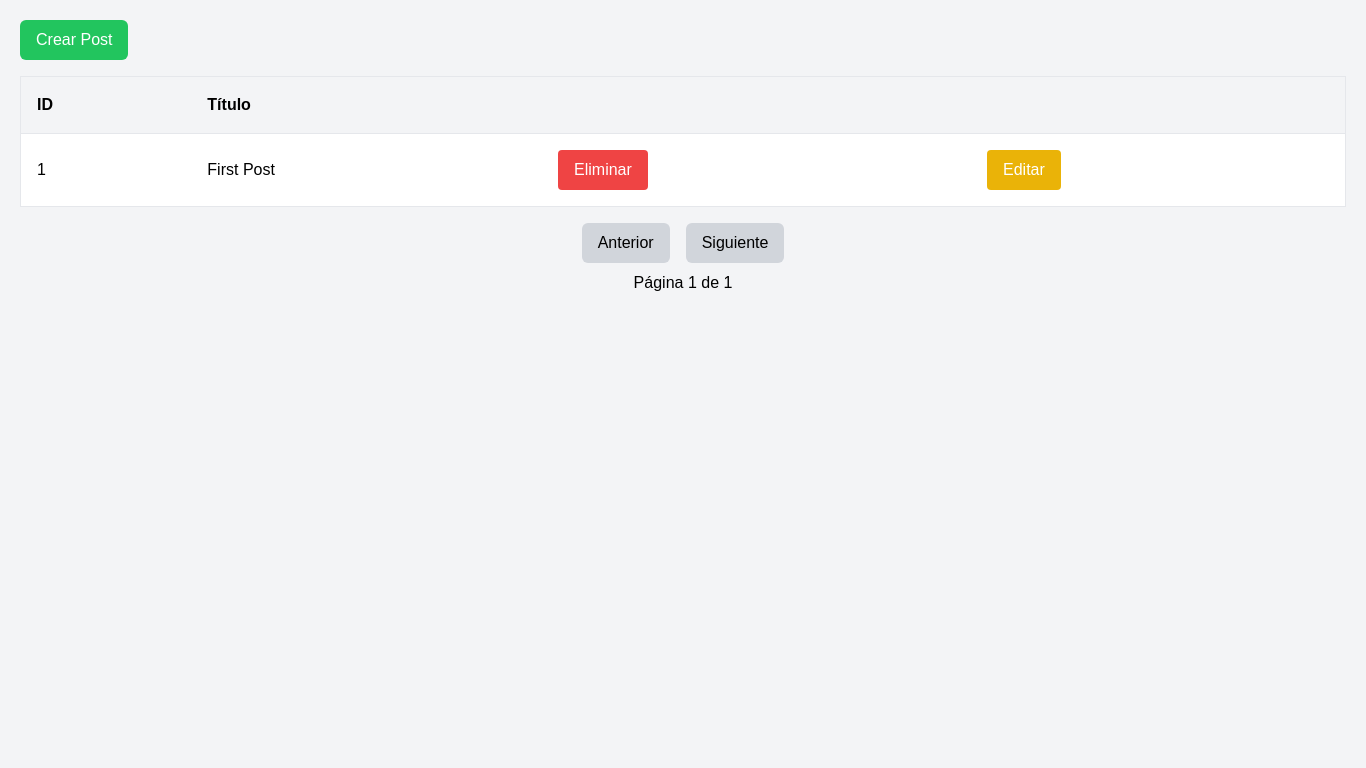
Scenario: PostList Component › closes the modal without performing any action
Expected: the text "First Post" is shown, [191,134,542,206]
// Click en el botón "Eliminar"
What coordinates should you click on to do the following:
click the button "Eliminar"
I would click on:
 (603, 170)
Its box is [558,150,648,190].
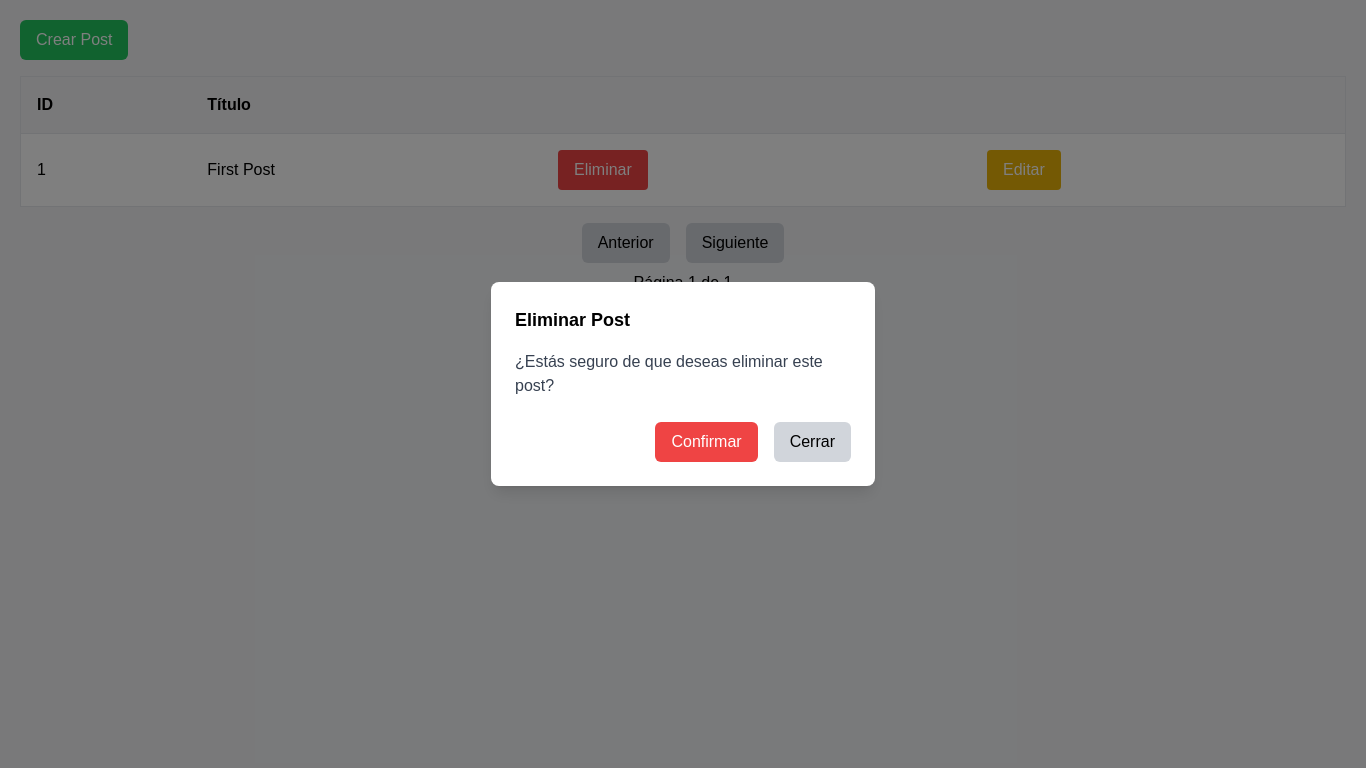
Expected: the text "¿Estás seguro de que deseas eliminar este post?" is shown, [515,350,851,398]
// Click en "Cerrar"
What coordinates should you click on to do the following:
click the button "Cerrar"
I would click on:
 (812, 442)
Its box is [774,422,851,462].
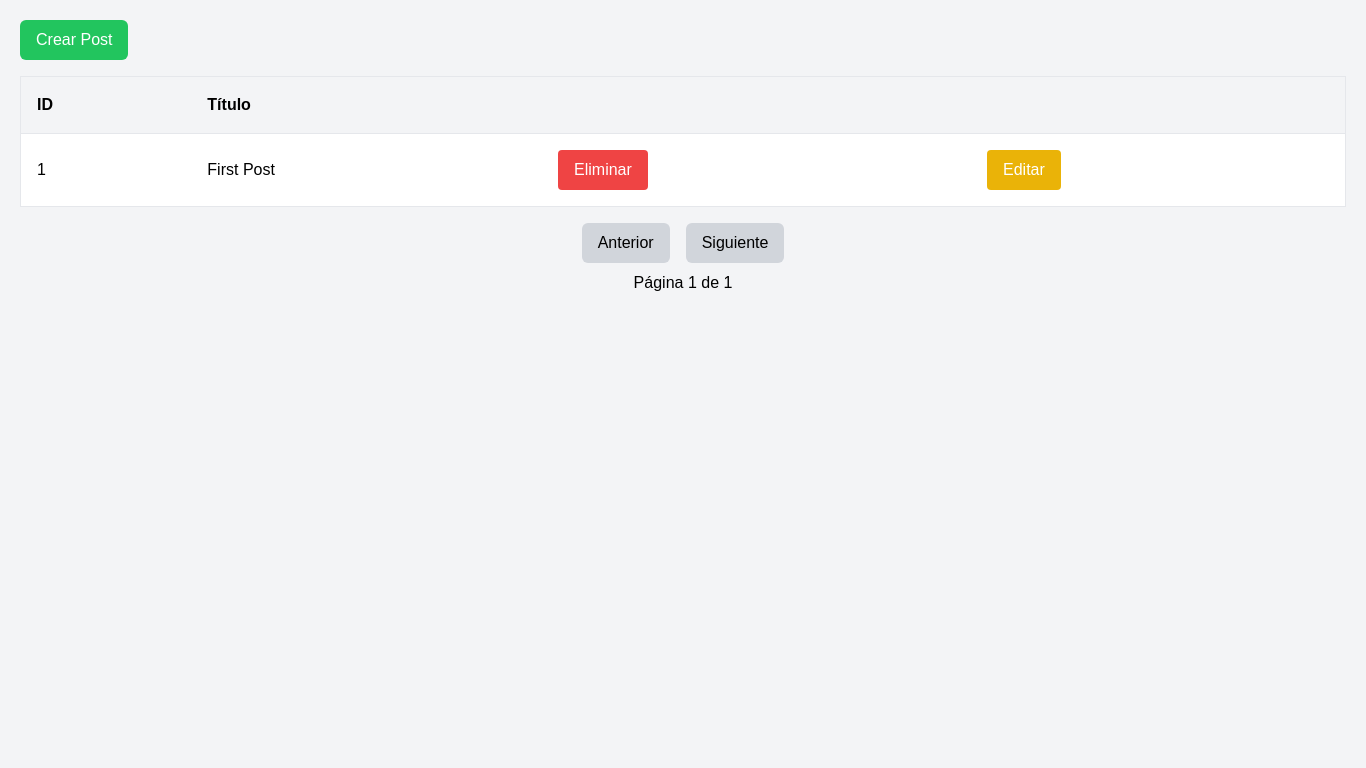
Expected: the text "¿Estás seguro de que deseas eliminar este post?" is gone
